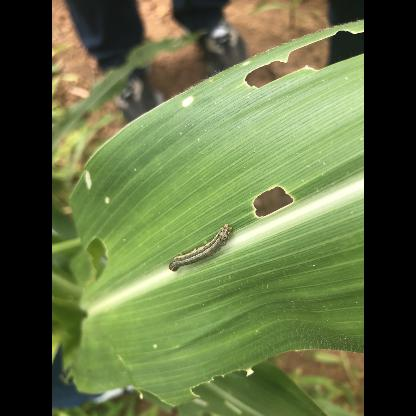Fall Armyworm Larvae: (168, 223, 235, 274)
